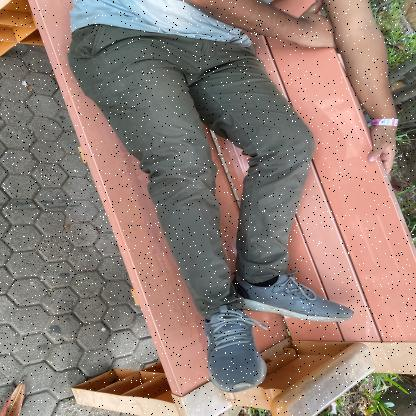hand: (329, 54, 416, 175)
leg: (213, 148, 376, 334), (141, 196, 277, 404)
